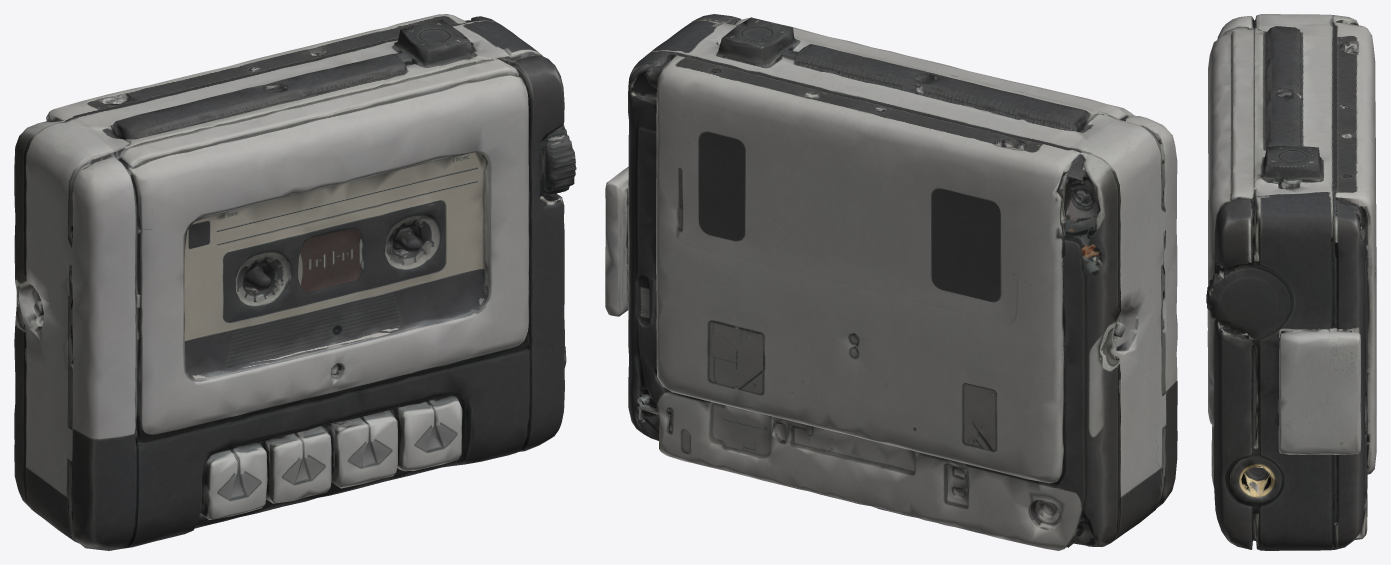
The model's file is Walkman.glb.
The picture shows the model from 3 angles, left to right: view 1: azimuth 30°, elevation 25°; view 2: azimuth 150°, elevation 25°; view 3: azimuth 270°, elevation 25°; orthographic projection. The views are drawn at different scales.
Parts seen in each view (by area): view 1: texture_mapping; view 2: texture_mapping; view 3: texture_mapping.
Part boxes in pixels (x1,y1,x2,y2): texture_mapping: (14,14,576,550); texture_mapping: (605,14,1177,550); texture_mapping: (1206,14,1376,550).
Size of the model in its own units: 1 by 0.7922 by 0.3317.
1 material, 1 textured.
